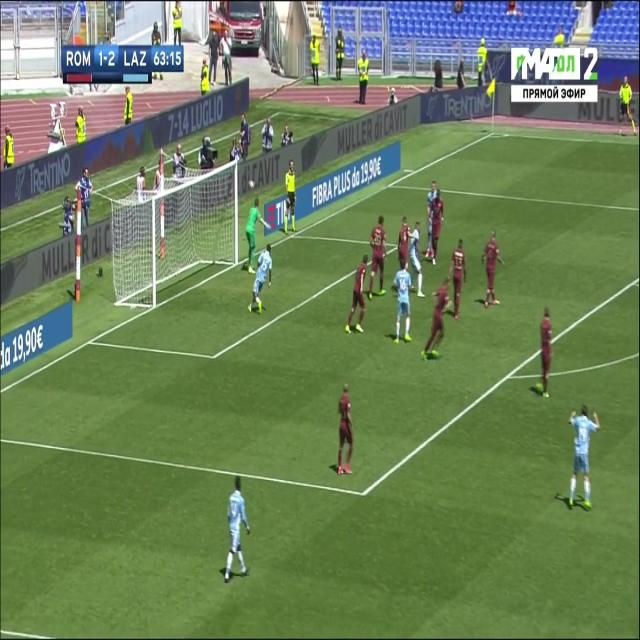Ball: (246, 176, 256, 191)
Goalkeeper: (241, 193, 274, 276)
Player: (565, 400, 602, 516), (220, 474, 252, 585), (418, 274, 452, 364), (333, 379, 358, 478), (532, 305, 557, 401), (343, 253, 370, 338), (246, 240, 275, 318), (389, 259, 413, 345), (479, 229, 505, 307), (447, 238, 470, 326), (369, 212, 390, 298), (410, 219, 427, 301), (422, 178, 437, 258), (430, 190, 445, 266), (395, 215, 411, 254)
Referee: (610, 70, 638, 143), (280, 158, 300, 239)
